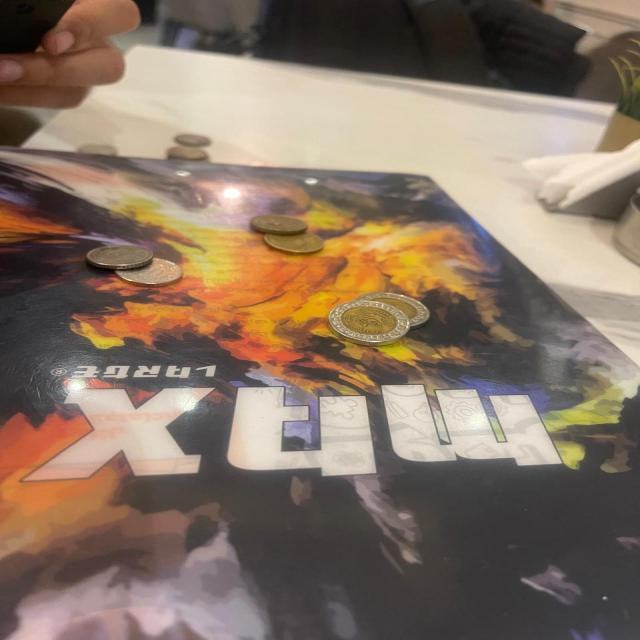Half Pound: (242, 207, 315, 239), (261, 230, 334, 256)
One Pound: (323, 297, 412, 351), (384, 290, 431, 325)
quarter pound: (83, 239, 159, 275), (123, 257, 187, 286)
